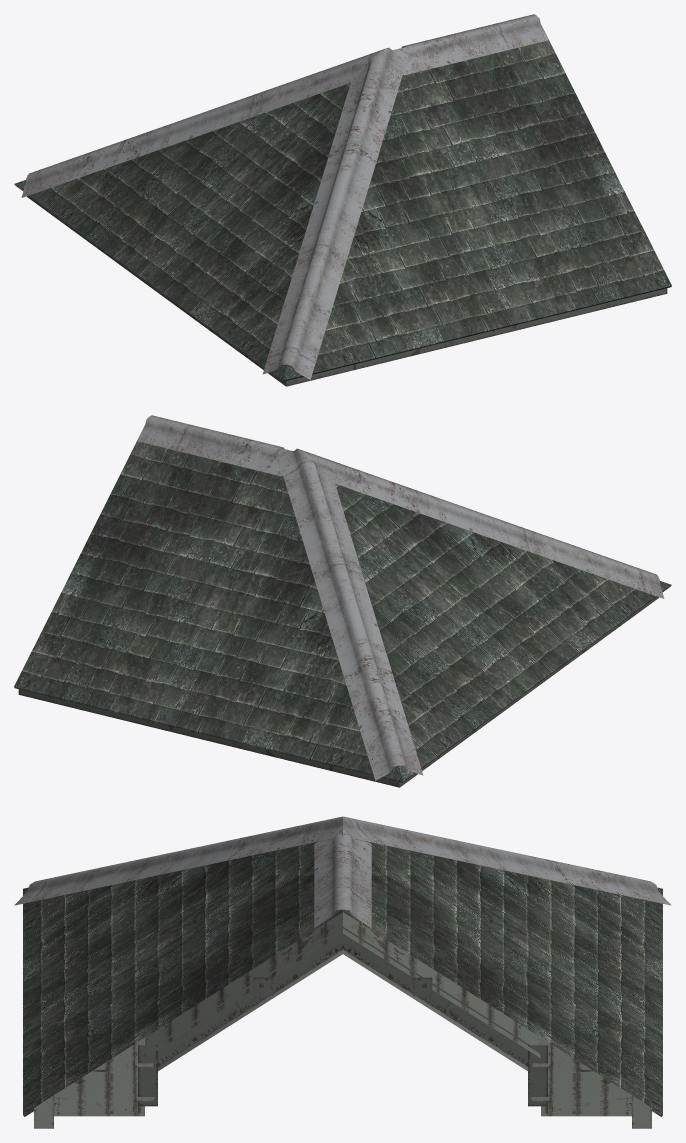
File: SM_Roof400x400End.FBX
3 views of the same model, one above another, from view 1: azimuth 30°, elevation 25°; view 2: azimuth 150°, elevation 25°; view 3: azimuth 270°, elevation 25° (orthographic). The views are drawn at different scales.
Parts seen in each view (by area): view 1: SM_Roof400x400End; view 2: SM_Roof400x400End; view 3: SM_Roof400x400End.
Part boxes in pixels (box(x1,y1,x2,y2)): SM_Roof400x400End: box(14, 14, 671, 386); SM_Roof400x400End: box(14, 415, 671, 787); SM_Roof400x400End: box(14, 816, 671, 1128).
Bounding box in the file's own units: 506 × 229 × 612.
